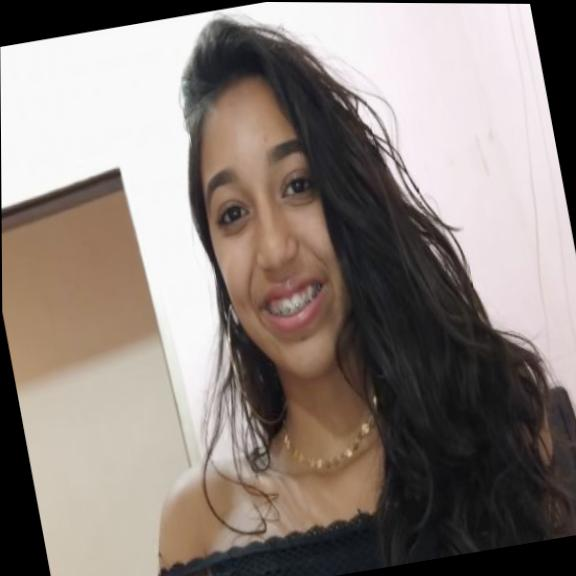no_safety_vest: (131, 387, 550, 576)
